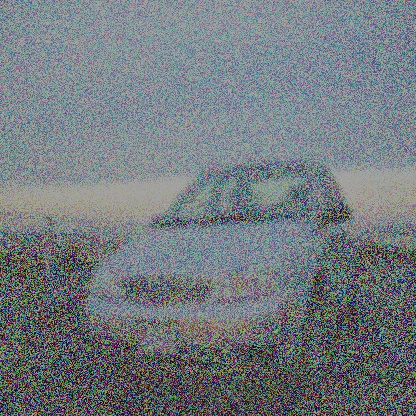Vehicle: (81, 160, 364, 398)
